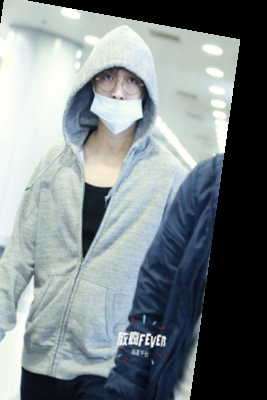mask_weared_incorrect: (73, 20, 179, 137)
